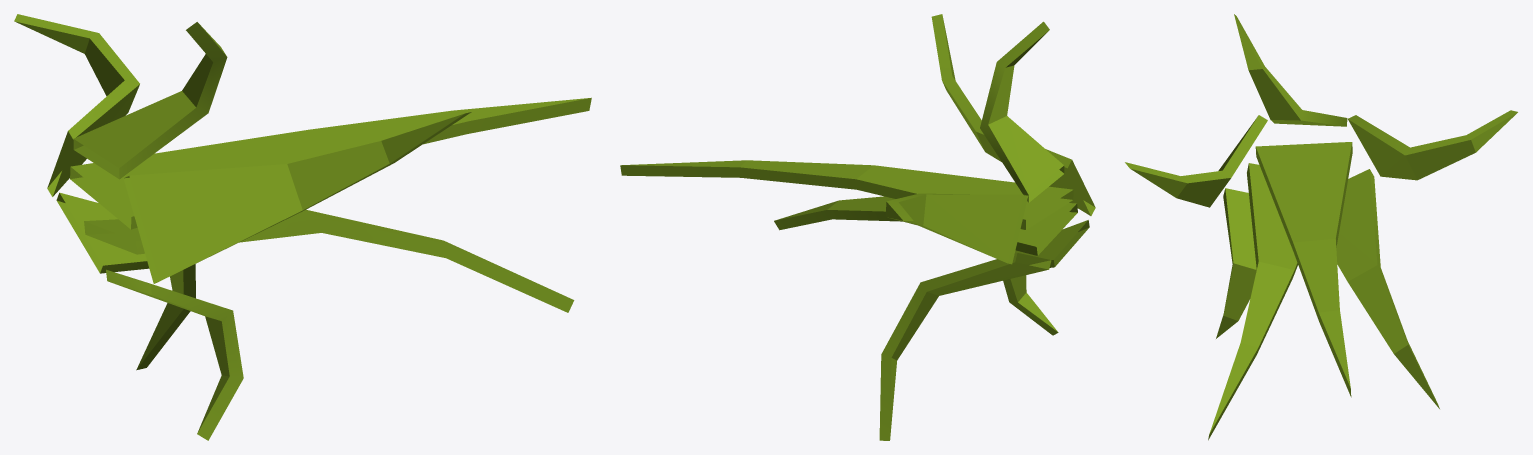
Rendered from LowPoly - Grass B.FBX.
3 views of the same model, side by side, from view 1: azimuth 30°, elevation 25°; view 2: azimuth 150°, elevation 25°; view 3: azimuth 270°, elevation 25° (orthographic). The views are drawn at different scales.
Visible parts, largest first — view 1: LowPolyGrass_02; view 2: LowPolyGrass_02; view 3: LowPolyGrass_02.
Boxes of the visible parts, bbox=[...] form: LowPolyGrass_02: bbox=[14, 14, 591, 440]; LowPolyGrass_02: bbox=[620, 14, 1095, 440]; LowPolyGrass_02: bbox=[1125, 14, 1517, 440].
Size of the model in its own units: 72.61 by 61.45 by 60.11.
